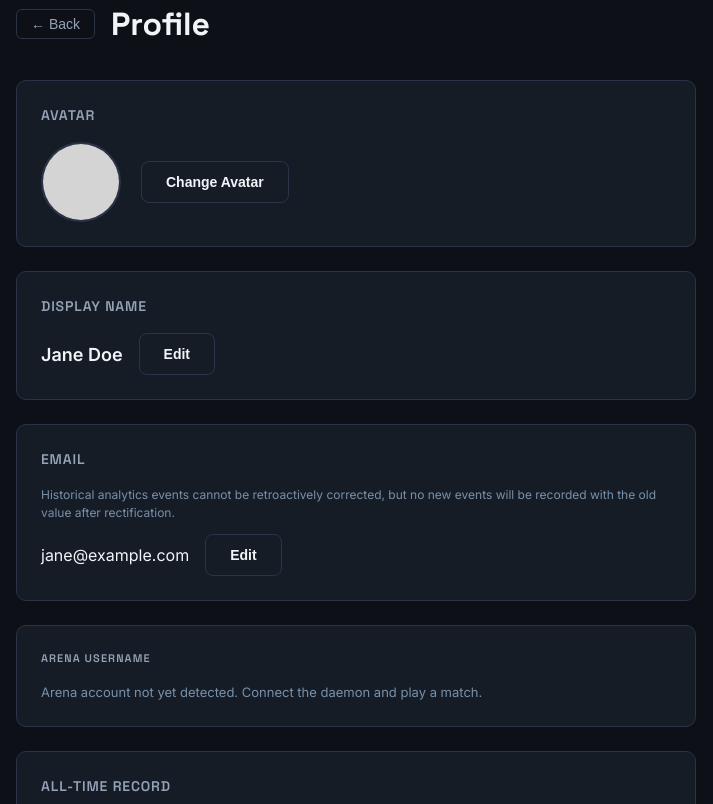
Test: Profile — email entry step (pending) › shows an error when createEmailAddress rejects
Click the button with test id "profile-edit-email-button" at (243, 555), box [205,534,282,576]
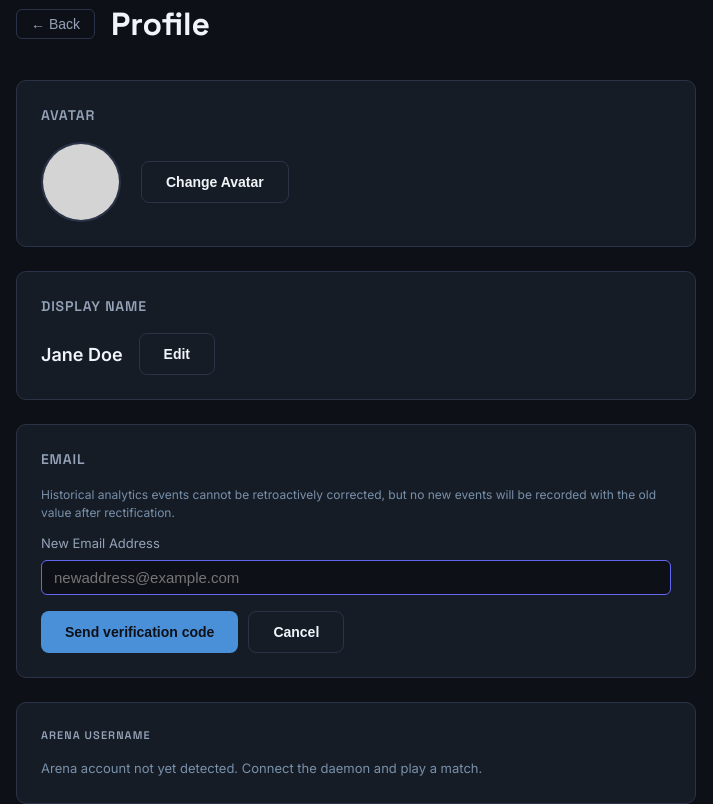
Type "taken@example.com" into the field with test id "profile-email-input" at (356, 577), box [41,560,671,594]
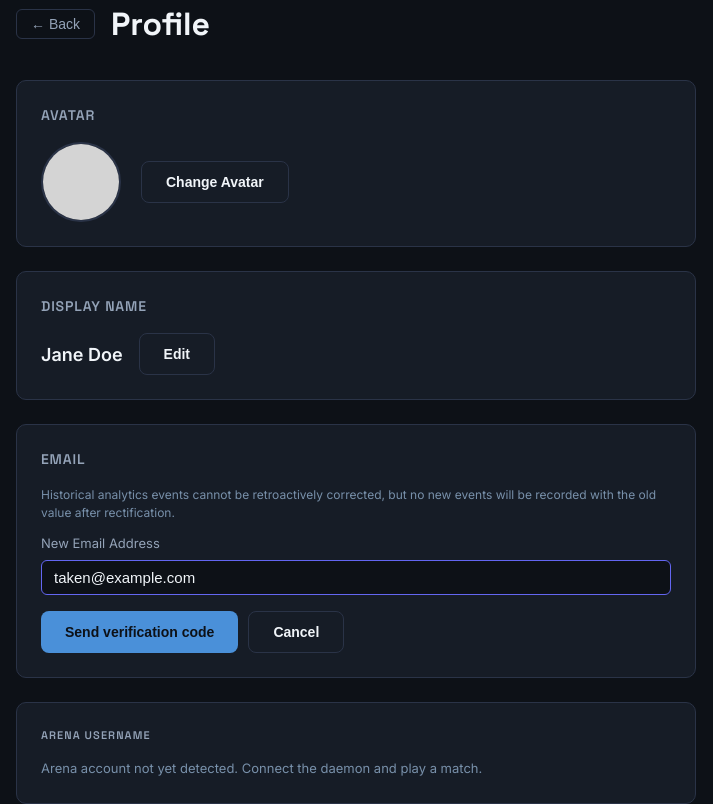
Click the button with test id "profile-email-submit-button" at (140, 632), box [41,610,238,652]
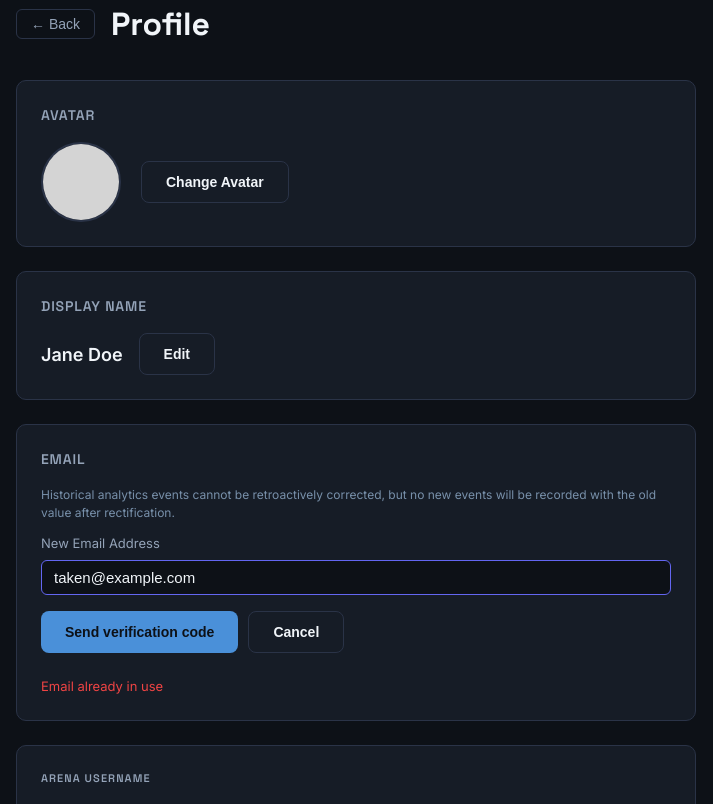
Expected: the message with test id "profile-email-error" reads "Email already in use", [41,678,163,694]
